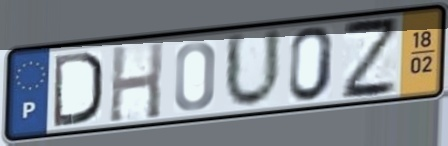0: (287, 25, 337, 104), (172, 39, 219, 113)
D: (51, 49, 106, 130)
H: (106, 39, 167, 125)
U: (222, 26, 284, 112)
Z: (340, 17, 400, 103)
